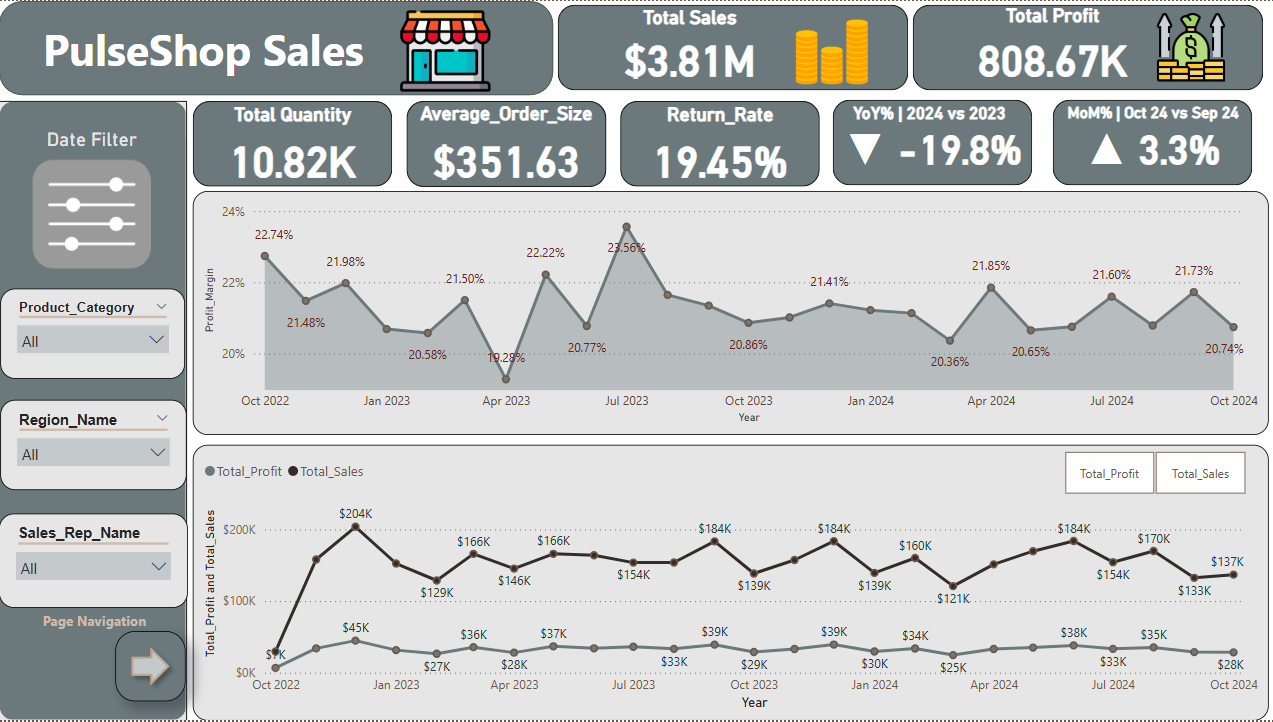

This screenshot's page, from the dashboard's own definition file:
{"tool":"powerbi","page":{"name":"KPIs & Sales Overview","canvas":[1280,720],"ordinal":0},"visuals":[{"type":"shape","box":[0,0,554.3,94.3],"z":0,"group":"g8"},{"type":"shape","box":[559.1,4.3,350,85.8],"z":0,"group":"g5"},{"type":"shape","box":[914.3,4.3,350,85.8],"z":0,"group":"g3"},{"type":"shape","box":[833.8,98.8,200,85.8],"z":0,"group":"g1"},{"type":"shape","box":[1053.8,98.8,200,85.8],"z":0,"group":"g2"},{"type":"shape","box":[0,100,188,620],"z":0},{"type":"shape","box":[194.3,100,200,85.8],"z":0,"group":"g4"},{"type":"shape","box":[407.5,100,199.9,86],"z":0,"group":"g7"},{"type":"shape","box":[620.7,100,200,85.8],"z":0,"group":"g6"},{"type":"card","title":"Total Profit","fields":{"Values":["Sum(Fact_Orders.Profit)"]},"box":[914.1,3.9,280,82.9],"z":1000,"group":"g3"},{"type":"card","title":"Total Sales","fields":{"Values":["Dax_meas.Total_Sales"]},"box":[559,5.3,264.3,80],"z":1000,"group":"g5"},{"type":"textbox","box":[38.6,14.3,381.4,88.6],"z":1000,"group":"g8"},{"type":"group","id":"g1","title":"Group 1","box":[833.8,98.8,200,90],"z":1000},{"type":"card","title":"Average_Order_Size","fields":{"Values":["Dax_meas.Average_Order_Size"]},"box":[407.6,101.2,199.9,88.8],"z":1000,"group":"g7"},{"type":"card","title":"YoY_Sales_Growth","fields":{"Values":["Dax_meas.YoY_Sales_Growth_Text"]},"box":[833.8,101.6,200,87.2],"z":1000,"group":"g1"},{"type":"card","title":"MoM_Sales_Growth","fields":{"Values":["Dax_meas.MoM_Sales_Growth_Text"]},"box":[1053.8,101.6,200,87.2],"z":1000,"group":"g2"},{"type":"card","title":"Total Quantity","fields":{"Values":["Dax_meas.Total_Quantity"]},"box":[194.3,102.8,200,87.2],"z":1000,"group":"g4"},{"type":"card","title":"Return_Rate","fields":{"Values":["Dax_meas.Return_Rate"]},"box":[620.7,102.8,200,87.2],"z":1000,"group":"g6"},{"type":"image","box":[338.6,0,215.7,100],"z":2000,"group":"g8"},{"type":"group","id":"g2","title":"Group 1","box":[1053.8,98.8,200,90],"z":2000},{"type":"group","id":"g3","title":"Group 1","box":[914.1,3.9,350.2,86.3],"z":3000},{"type":"group","id":"g4","title":"Group 1","box":[194.3,100,200,90],"z":4000},{"type":"group","id":"g5","title":"Group 1","box":[559,4.3,350.1,85.8],"z":5000},{"type":"group","id":"g6","title":"Group 1","box":[620.7,100,200,90],"z":6000},{"type":"group","id":"g7","title":"Group 1","box":[407.5,100,200,90],"z":7000},{"type":"lineChart","fields":{"Y":["Dax_meas.Total_Profit","Dax_meas.Total_Sales"],"Category":["Dim_Date.Order_Date.Variation.Date Hierarchy.Year","Dim_Date.Order_Date.Variation.Date Hierarchy.Month"]},"box":[194.3,444.3,1075.7,275.7],"z":8000},{"type":"slicer","fields":{"Values":["Dim_Products.Product_Category"]},"box":[1.2,287.5,185,90],"z":9000},{"type":"slicer","fields":{"Values":["Dim_Regions.Region_Name"]},"box":[1.2,398.2,184.1,90.2],"z":10000},{"type":"slicer","fields":{"Values":["Dim_Sales_Reps.Sales_Rep_Name"]},"box":[0,512.5,185.3,95],"z":11000},{"type":"shape","box":[115.7,630,70,70],"z":12000},{"type":"image","box":[762.9,14.3,141.4,74.3],"z":13000},{"type":"image","box":[1120,5.7,144.3,80],"z":14000},{"type":"group","id":"g8","title":"Group 3","box":[0,0,554.3,102.9],"z":15000},{"type":"slicer","fields":{"Values":["Parameter1.Parameter1"]},"box":[1040,444.3,230,55.7],"z":16000},{"type":"lineChart","fields":{"Y":["Dax_meas.Profit_Margin"],"Category":["Dim_Date.Order_Date.Variation.Date Hierarchy.Year","Dim_Date.Order_Date.Variation.Date Hierarchy.Month"]},"box":[194.3,190,1075.7,244.3],"z":17000},{"type":"image","title":"Date Filter","box":[0,127.1,185.7,150],"z":19000},{"type":"card","fields":{"Values":["Dax_meas.Variance_Period_MoM"]},"box":[1042.5,98.8,223.8,27.5],"z":21000},{"type":"card","fields":{"Values":["Dax_meas.Variance_Period_YoY"]},"box":[807.5,98.8,246.2,27.5],"z":22000},{"type":"textbox","box":[38.8,606.2,128.8,27.5],"z":23000}]}

Visuals, with their boxes in screenshot pixels (x1, y1, x2, y2), scaled from the page's 1280x720 canvas onto the 1273x722 screenshot:
shape: <box>0,0,551,95</box>
shape: <box>556,4,904,90</box>
shape: <box>909,4,1257,90</box>
shape: <box>829,99,1028,185</box>
shape: <box>1048,99,1247,185</box>
shape: <box>0,100,187,721</box>
shape: <box>193,100,392,186</box>
shape: <box>405,100,604,187</box>
shape: <box>617,100,816,186</box>
"Total Profit" card: <box>909,4,1188,87</box>
"Total Sales" card: <box>556,5,819,86</box>
textbox: <box>38,14,418,103</box>
"Group 1" group: <box>829,99,1028,189</box>
"Average_Order_Size" card: <box>405,101,604,191</box>
"YoY_Sales_Growth" card: <box>829,102,1028,189</box>
"MoM_Sales_Growth" card: <box>1048,102,1247,189</box>
"Total Quantity" card: <box>193,103,392,191</box>
"Return_Rate" card: <box>617,103,816,191</box>
image: <box>337,0,551,100</box>
"Group 1" group: <box>1048,99,1247,189</box>
"Group 1" group: <box>909,4,1257,90</box>
"Group 1" group: <box>193,100,392,191</box>
"Group 1" group: <box>556,4,904,90</box>
"Group 1" group: <box>617,100,816,191</box>
"Group 1" group: <box>405,100,604,191</box>
lineChart - Dax_meas.Total_Profit x Dax_meas.Total_Sales: <box>193,446,1263,721</box>
slicer - Dim_Products.Product_Category: <box>1,288,185,379</box>
slicer - Dim_Regions.Region_Name: <box>1,399,184,490</box>
slicer - Dim_Sales_Reps.Sales_Rep_Name: <box>0,514,184,609</box>
shape: <box>115,632,185,702</box>
image: <box>759,14,899,89</box>
image: <box>1114,6,1257,86</box>
"Group 3" group: <box>0,0,551,103</box>
slicer - Parameter1.Parameter1: <box>1034,446,1263,501</box>
lineChart - Dax_meas.Profit_Margin x Dim_Date.Order_Date.Variation.Date Hierarchy.Year: <box>193,191,1263,436</box>
"Date Filter" image: <box>0,127,185,278</box>
card - Dax_meas.Variance_Period_MoM: <box>1037,99,1259,127</box>
card - Dax_meas.Variance_Period_YoY: <box>803,99,1048,127</box>
textbox: <box>39,608,167,635</box>
